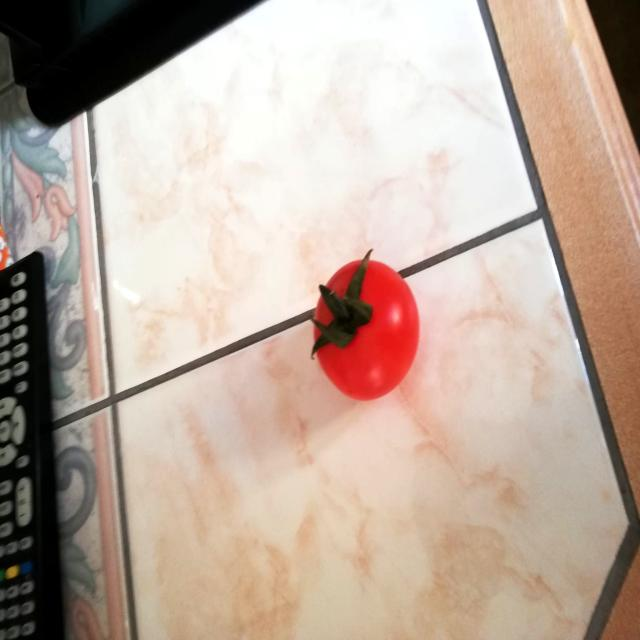tomato: (303, 248, 427, 404)
